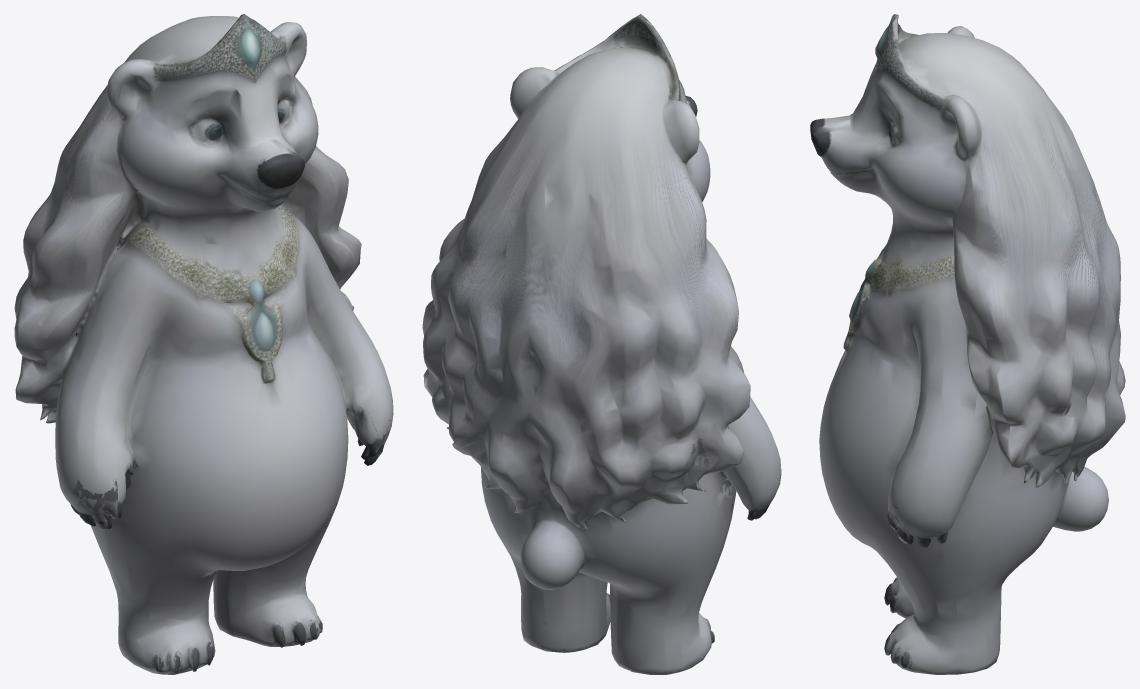
File: misty.glb
3 renders of one model, left to right at view 1: azimuth 30°, elevation 25°; view 2: azimuth 150°, elevation 25°; view 3: azimuth 270°, elevation 25°, orthographic. The views are drawn at different scales.
Visible parts, largest first — view 1: Misty_Companion; view 2: Misty_Companion; view 3: Misty_Companion.
Boxes of the visible parts, left/top/right/bottom form: Misty_Companion: left=14, top=14, right=393, bottom=674; Misty_Companion: left=422, top=14, right=781, bottom=674; Misty_Companion: left=810, top=14, right=1125, bottom=674.
Size of the model in its own units: 0.918 by 1.65 by 0.7611.
1 material, 1 textured.
